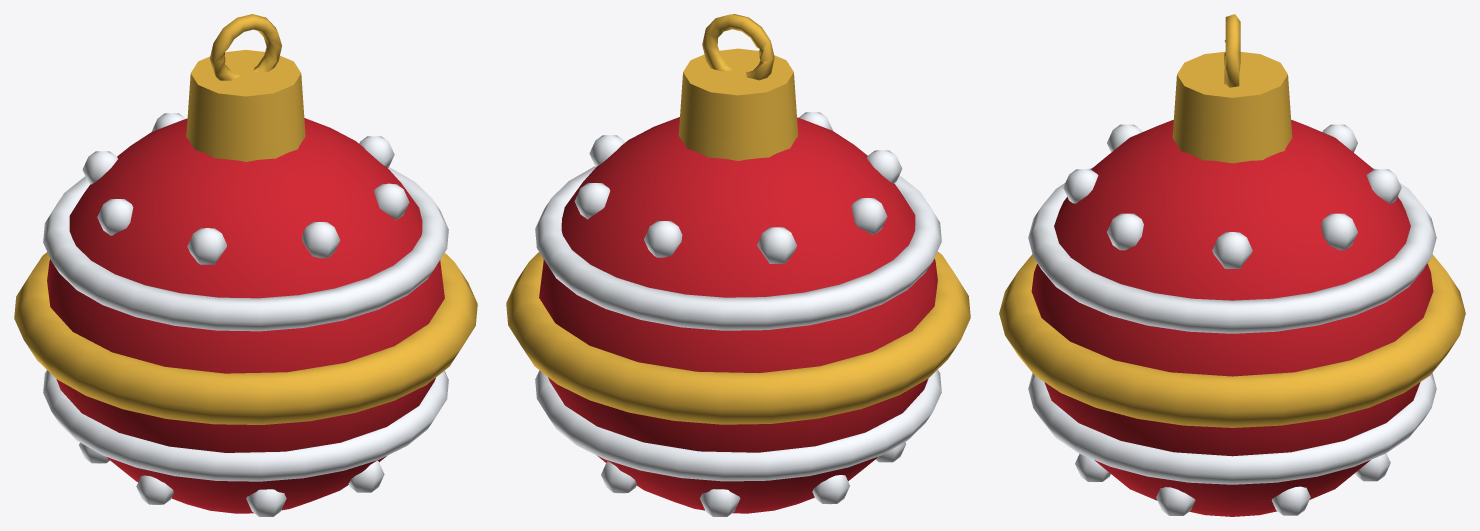
File: XmasTreeBobber.glb
The picture shows the model from 3 angles, left to right: view 1: azimuth 30°, elevation 25°; view 2: azimuth 150°, elevation 25°; view 3: azimuth 270°, elevation 25°; orthographic projection.
Parts seen in each view (by area): view 1: XmasTreeBobber__Red, XmasTreeBobber__Gold, XmasTreeBobber__Snow; view 2: XmasTreeBobber__Red, XmasTreeBobber__Gold, XmasTreeBobber__Snow; view 3: XmasTreeBobber__Red, XmasTreeBobber__Gold, XmasTreeBobber__Snow.
Part boxes in pixels (left/top/right/bottom): XmasTreeBobber__Red: left=47, top=118, right=444, bottom=513; XmasTreeBobber__Gold: left=14, top=14, right=477, bottom=424; XmasTreeBobber__Snow: left=43, top=113, right=448, bottom=516; XmasTreeBobber__Red: left=539, top=117, right=937, bottom=513; XmasTreeBobber__Gold: left=506, top=14, right=970, bottom=424; XmasTreeBobber__Snow: left=535, top=112, right=941, bottom=516; XmasTreeBobber__Red: left=1031, top=119, right=1433, bottom=516; XmasTreeBobber__Gold: left=999, top=14, right=1465, bottom=427; XmasTreeBobber__Snow: left=1028, top=124, right=1436, bottom=515.
Bounding box in the file's own units: 0.5044 × 0.5725 × 0.5044.
